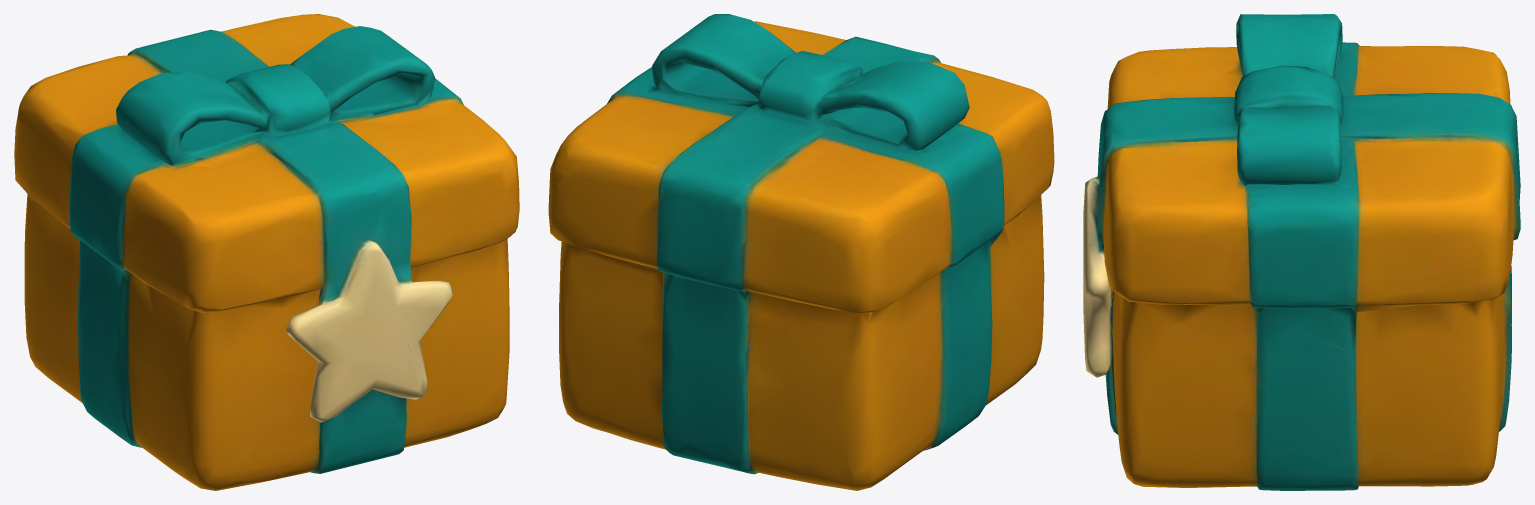
File: factory-product-box.glb
3 renders of one model, left to right at view 1: azimuth 30°, elevation 25°; view 2: azimuth 150°, elevation 25°; view 3: azimuth 270°, elevation 25°, orthographic. The views are drawn at different scales.
Visible parts, largest first — view 1: package; view 2: package; view 3: package.
Boxes of the visible parts, bbox=[...] form: package: bbox=[14, 14, 519, 490]; package: bbox=[548, 14, 1054, 490]; package: bbox=[1083, 14, 1520, 490].
Bounding box in the file's own units: 0.6744 × 0.6332 × 0.7.
1 material, 1 textured.
